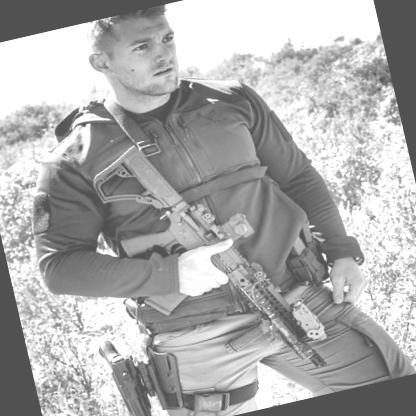rifle: (79, 110, 332, 415), (89, 334, 155, 416)
